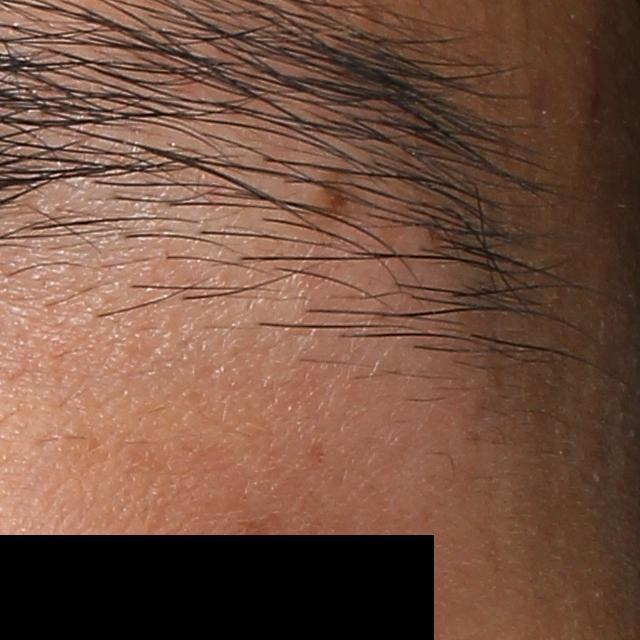melasma: (304, 174, 367, 222), (232, 509, 282, 553), (302, 435, 330, 468)
